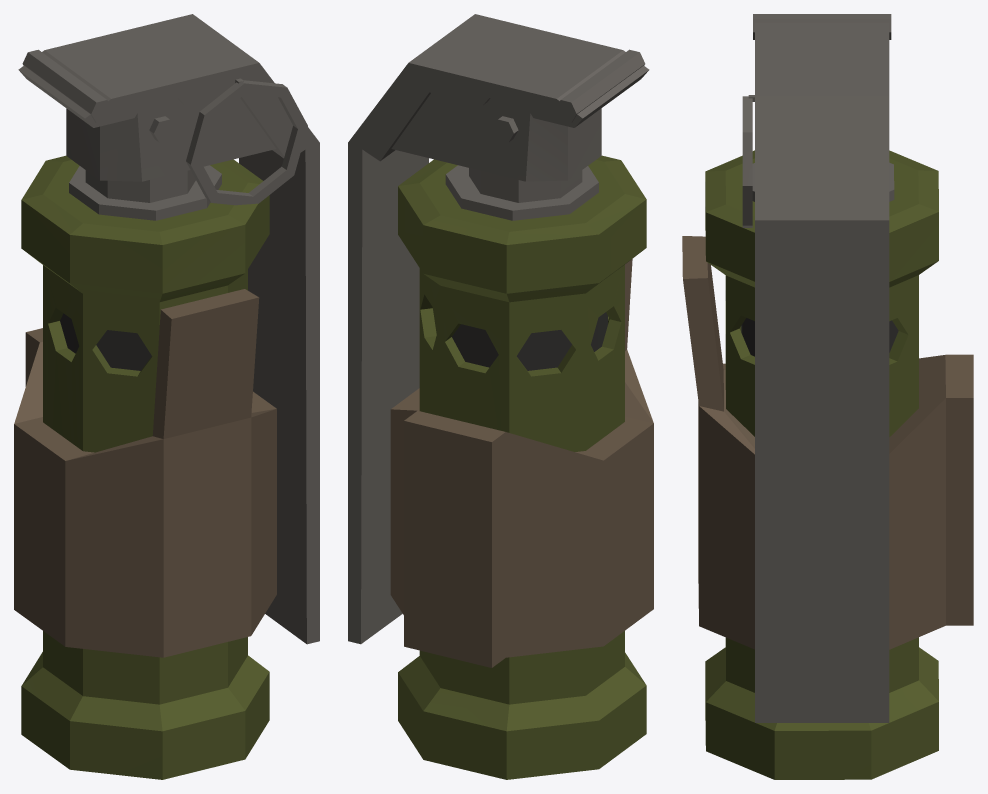
Rendered from Stun_Greande_01_SM.FBX.
3 views of the same model, side by side, from view 1: azimuth 30°, elevation 25°; view 2: azimuth 150°, elevation 25°; view 3: azimuth 270°, elevation 25° (orthographic).
Visible parts, largest first — view 1: Stun_Greande_01_SM; view 2: Stun_Greande_01_SM; view 3: Stun_Greande_01_SM.
Part boxes in pixels (x1,y1,x2,y2): Stun_Greande_01_SM: (14, 14, 319, 779); Stun_Greande_01_SM: (348, 14, 653, 779); Stun_Greande_01_SM: (682, 14, 973, 779).
Size of what is drawn, in the model's own units: 4.89 by 4.95 by 12.72.
